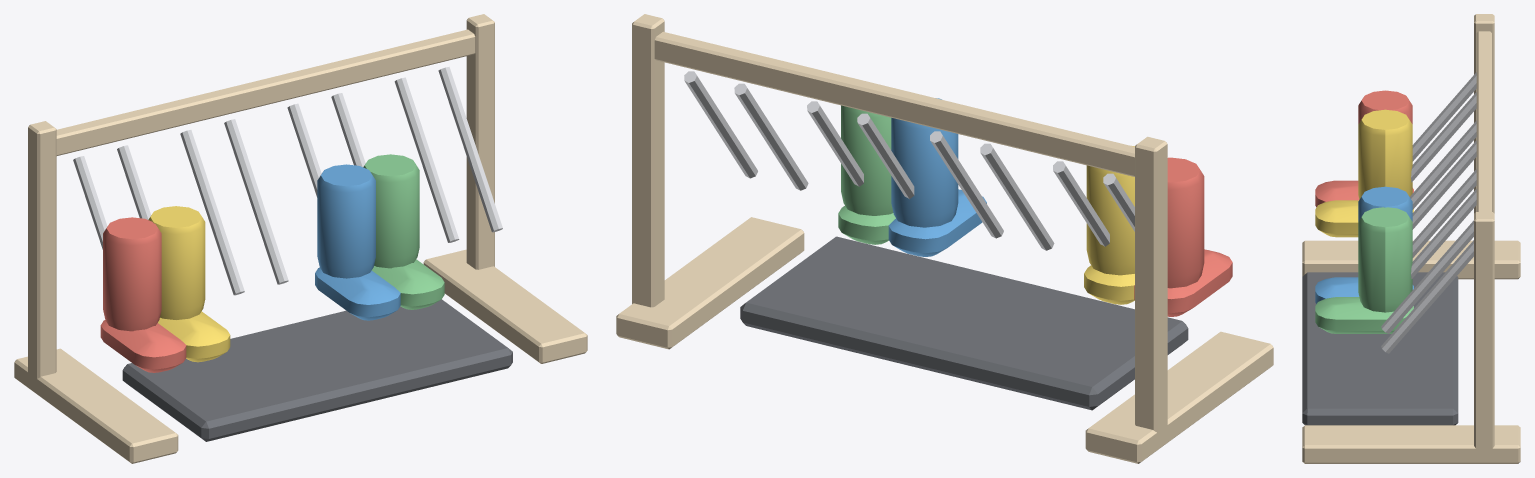
Rendered from nursery-and-primary-classroom-welly-rack-7c3cf156__35028.glb.
3 views of the same model, side by side, from view 1: azimuth 30°, elevation 25°; view 2: azimuth 150°, elevation 25°; view 3: azimuth 270°, elevation 25° (orthographic). The views are drawn at different scales.
Parts seen in each view (by area): view 1: welly-rack; view 2: welly-rack; view 3: welly-rack.
Boxes of the visible parts, box(x1,y1,x2,y2) form: welly-rack: box(14, 14, 587, 463); welly-rack: box(616, 14, 1273, 463); welly-rack: box(1302, 14, 1520, 463).
Size of the model in its own units: 0.94 by 0.52 by 0.42.
